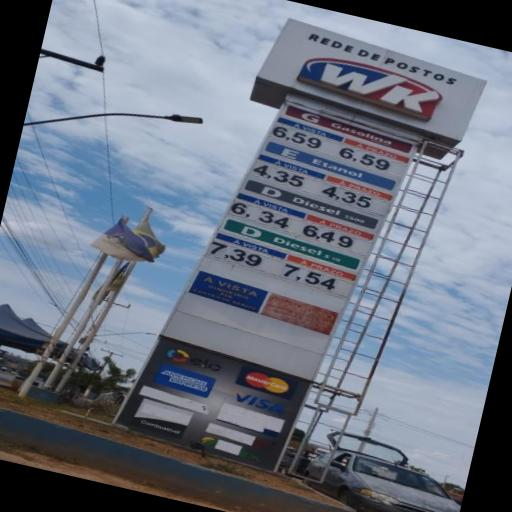ETANOL: (273, 145, 383, 187)
GASOLINA C: (293, 108, 407, 152)
S10: (234, 222, 349, 267)
S500: (255, 183, 375, 230)
placa: (198, 99, 422, 313)
preco: (227, 199, 300, 232), (250, 160, 319, 193), (204, 240, 271, 271), (269, 122, 332, 153)
